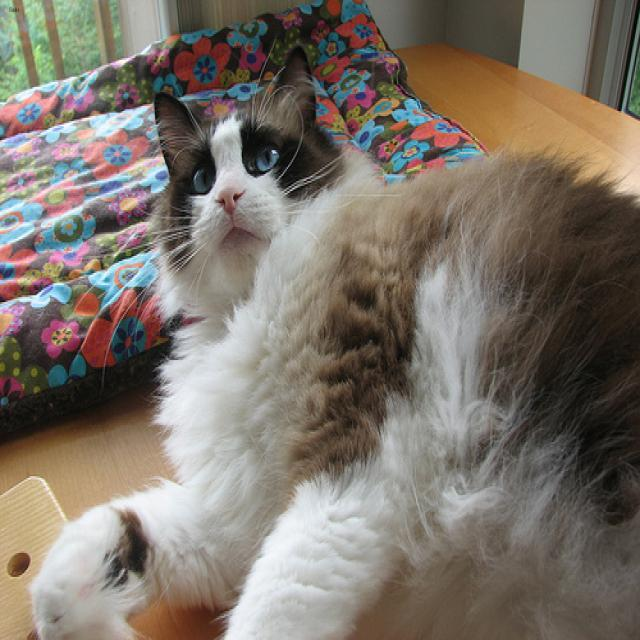Ragdoll: (146, 34, 339, 285)
